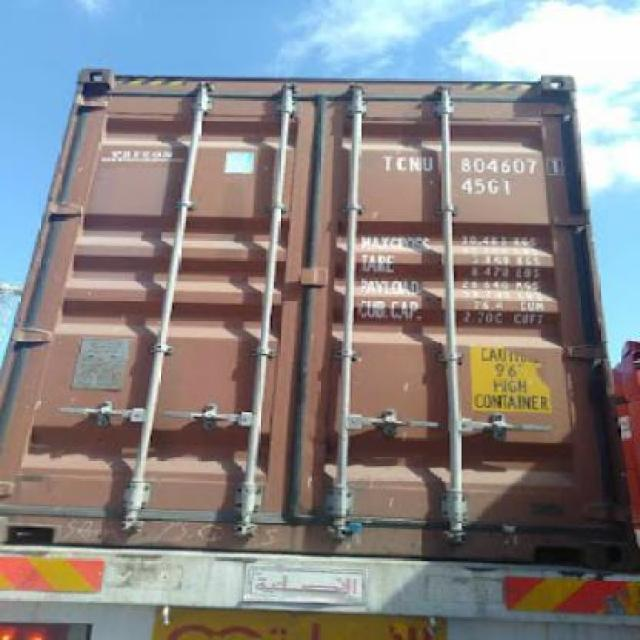ISO: (462, 178, 514, 196)
container_number: (386, 154, 554, 176)
